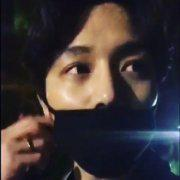WRONG: (53, 45, 168, 160)
